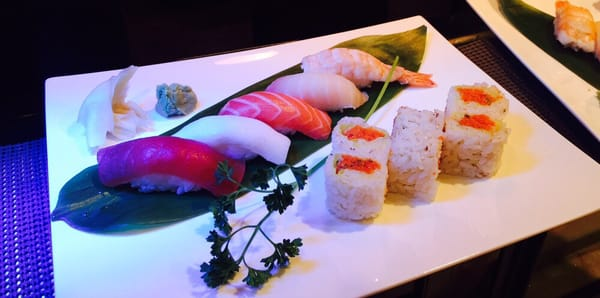pizza: (324, 117, 391, 224)
